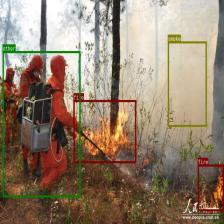fire: (73, 100, 136, 162), (198, 164, 224, 211)
smoke: (168, 41, 206, 126)
